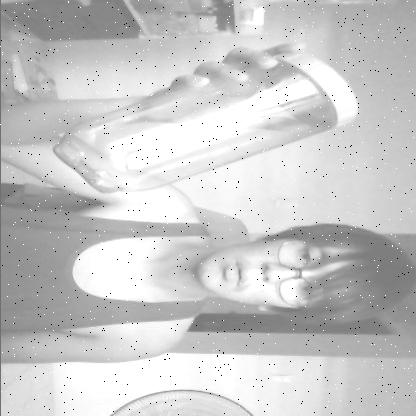Plastic Bottle: (42, 50, 365, 199)
